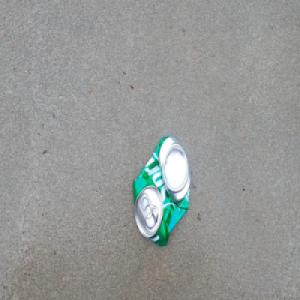SodaCan: (131, 132, 193, 252)
